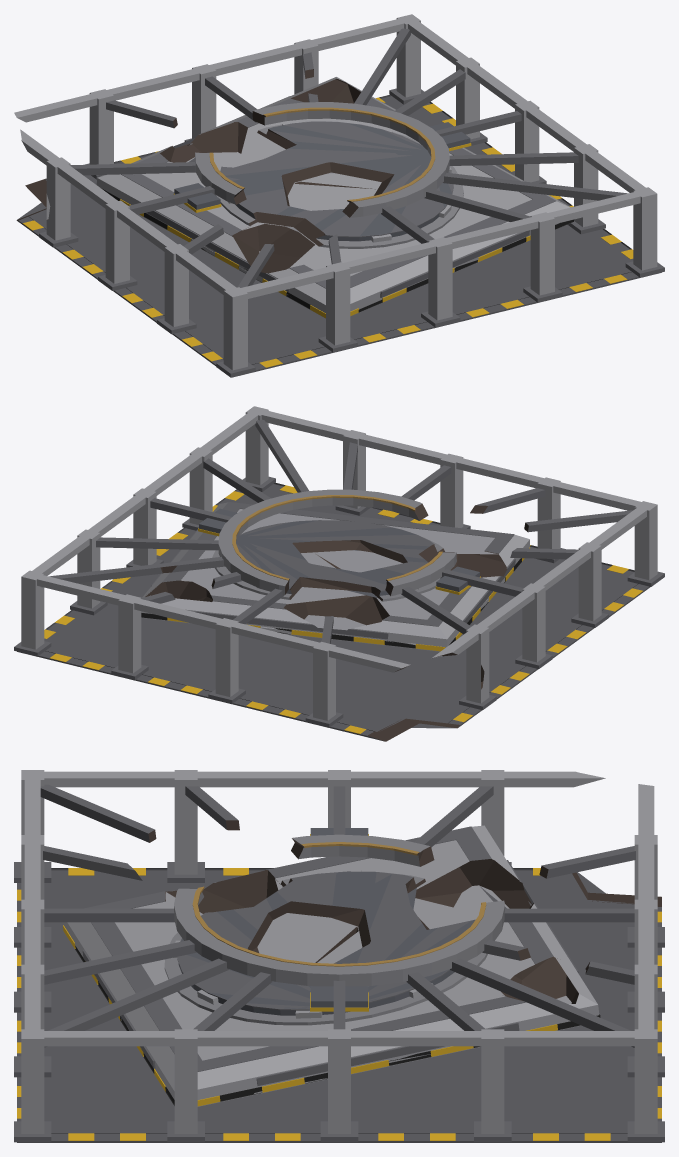
Rendered from vge_d_giantweaponplatform.obj.
3 renders of one model, top to bottom at view 1: azimuth 30°, elevation 25°; view 2: azimuth 150°, elevation 25°; view 3: azimuth 270°, elevation 25°, orthographic. The views are drawn at different scales.
Parts seen in each view (by area): view 1: vge_d_giantweaponplatform; view 2: vge_d_giantweaponplatform; view 3: vge_d_giantweaponplatform.
Part boxes in pixels (<box>): vge_d_giantweaponplatform: <box>14,14,664,377</box>; vge_d_giantweaponplatform: <box>14,406,664,741</box>; vge_d_giantweaponplatform: <box>14,770,664,1142</box>.
Bounding box in the file's own units: 9.04 × 1.57 × 9.04.
